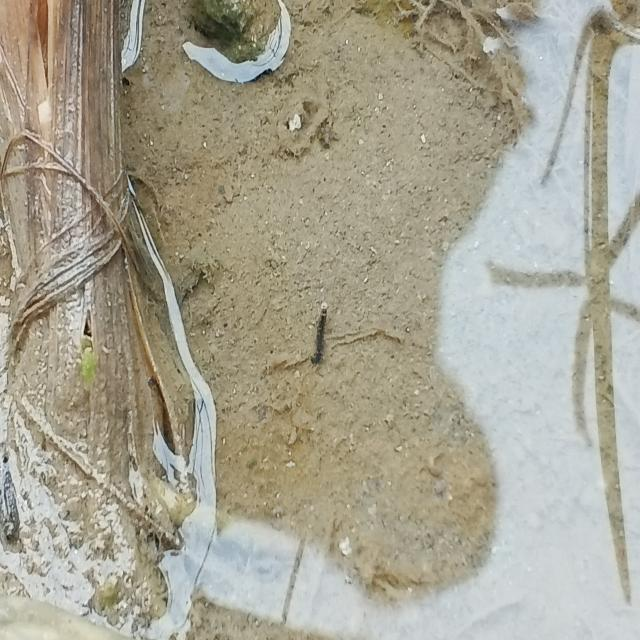Breeding Place: (123, 1, 640, 640)
